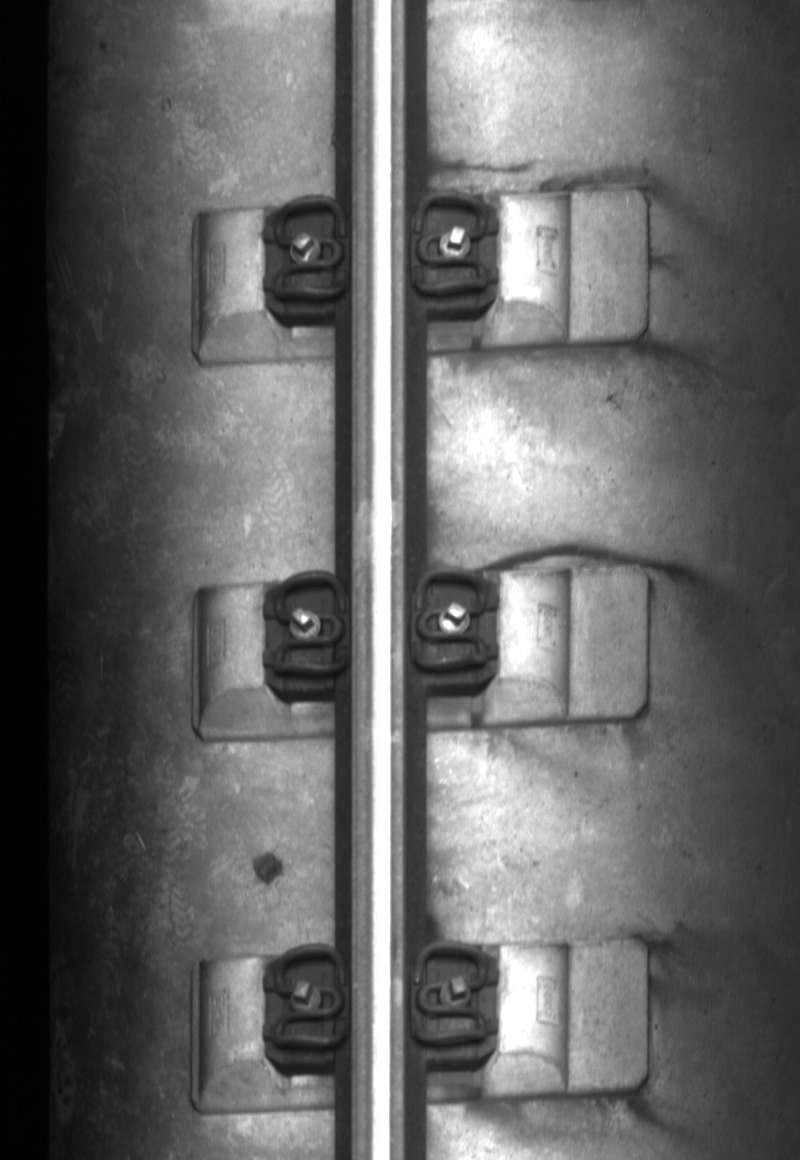l_faster: (267, 940, 352, 1056), (268, 192, 352, 307), (267, 567, 350, 682)
r_faster: (408, 182, 494, 303), (407, 936, 492, 1057), (408, 561, 491, 679)
